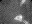person: (16, 13, 24, 20), (19, 1, 27, 6), (24, 19, 28, 23)
